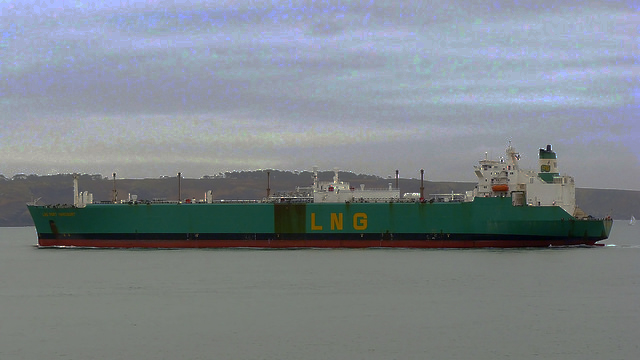LNG_ship: (26, 142, 620, 252)
